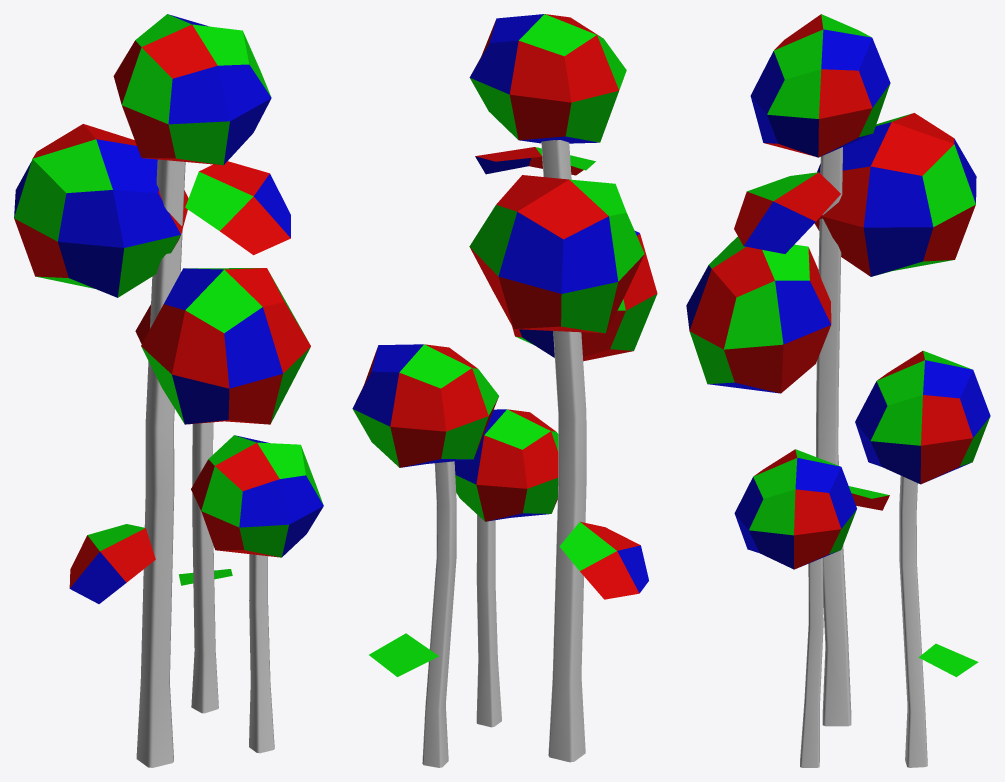
Rendered from Tree_E_03.fbx.
3 renders of one model, left to right at view 1: azimuth 30°, elevation 25°; view 2: azimuth 150°, elevation 25°; view 3: azimuth 270°, elevation 25°, orthographic. The views are drawn at different scales.
Visible parts, largest first — view 1: Tree_E_03_Leaves, Tree_E_03_Trunk; view 2: Tree_E_03_Leaves, Tree_E_03_Trunk; view 3: Tree_E_03_Leaves, Tree_E_03_Trunk.
Part boxes in pixels (bbox=[...]): Tree_E_03_Leaves: bbox=[14, 14, 323, 603]; Tree_E_03_Trunk: bbox=[136, 159, 274, 767]; Tree_E_03_Leaves: bbox=[352, 14, 657, 676]; Tree_E_03_Trunk: bbox=[422, 140, 586, 767]; Tree_E_03_Leaves: bbox=[686, 14, 990, 677]; Tree_E_03_Trunk: bbox=[800, 147, 927, 767].
Size of the model in its own units: 1.47 by 4.01 by 1.57.
